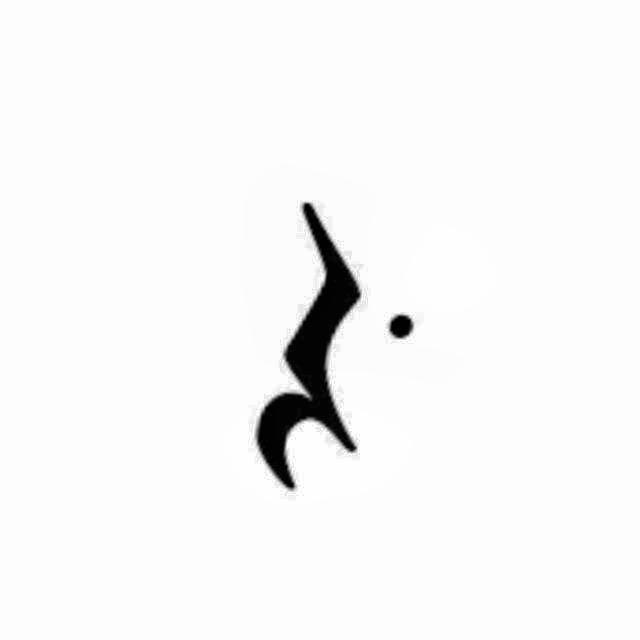Quarter-rest: (223, 195, 429, 497)
